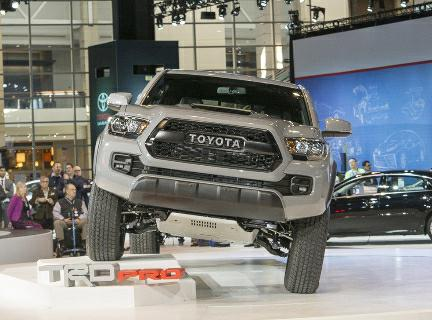丰田-Tacoma: (84, 63, 356, 300)
